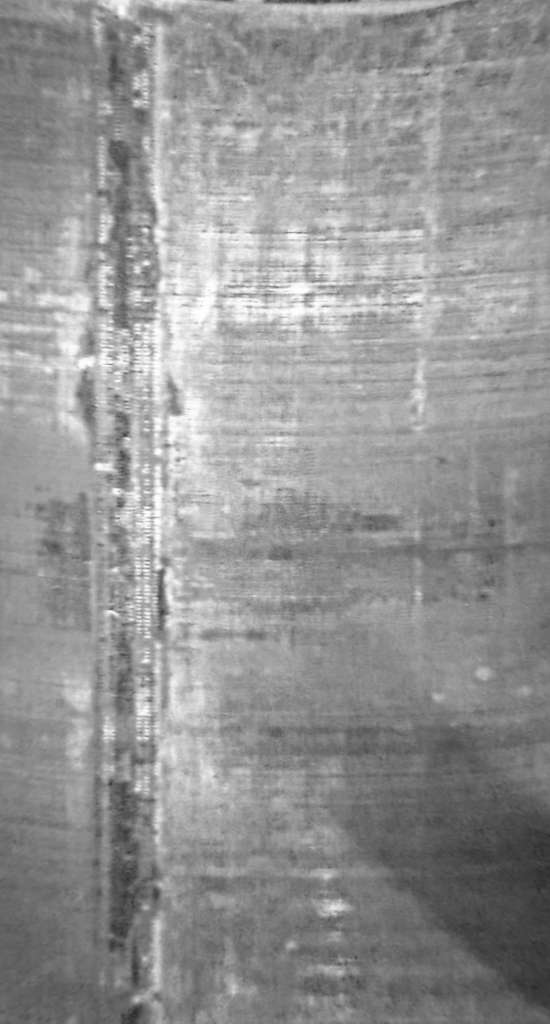splice: (76, 1, 178, 1024)
